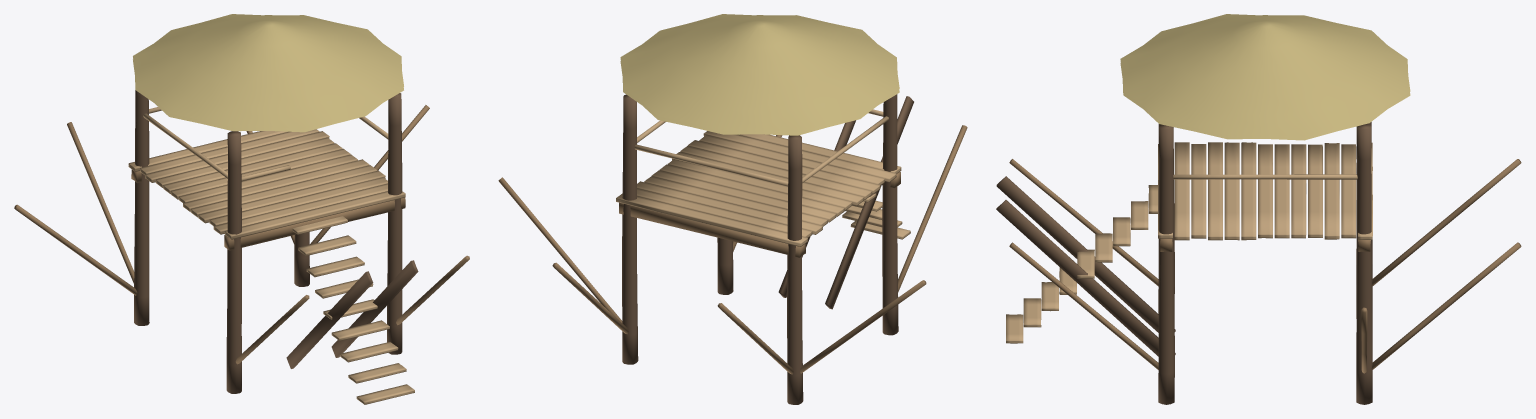
Rendered from poi_overlook_platform.glb.
The picture shows the model from 3 angles, left to right: view 1: azimuth 30°, elevation 25°; view 2: azimuth 150°, elevation 25°; view 3: azimuth 270°, elevation 25°; orthographic projection. The views are drawn at different scales.
Visible parts, largest first — view 1: poi_overlook_platform; view 2: poi_overlook_platform; view 3: poi_overlook_platform.
Part boxes in pixels (x1,y1,x2,y2): poi_overlook_platform: (14,14,469,404); poi_overlook_platform: (498,14,967,404); poi_overlook_platform: (996,14,1521,404).
Size of the model in its own units: 8.28 by 5.97 by 8.49.
